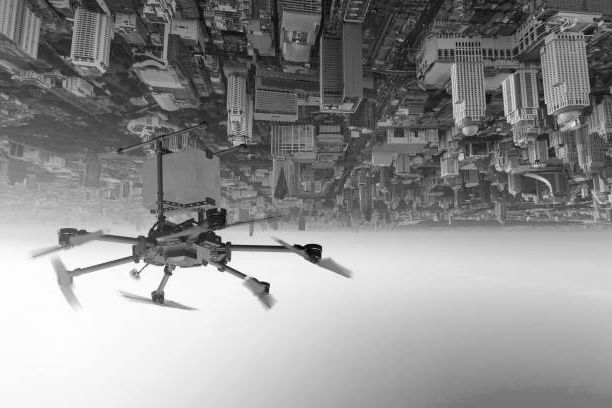Drone: (26, 198, 353, 317)
